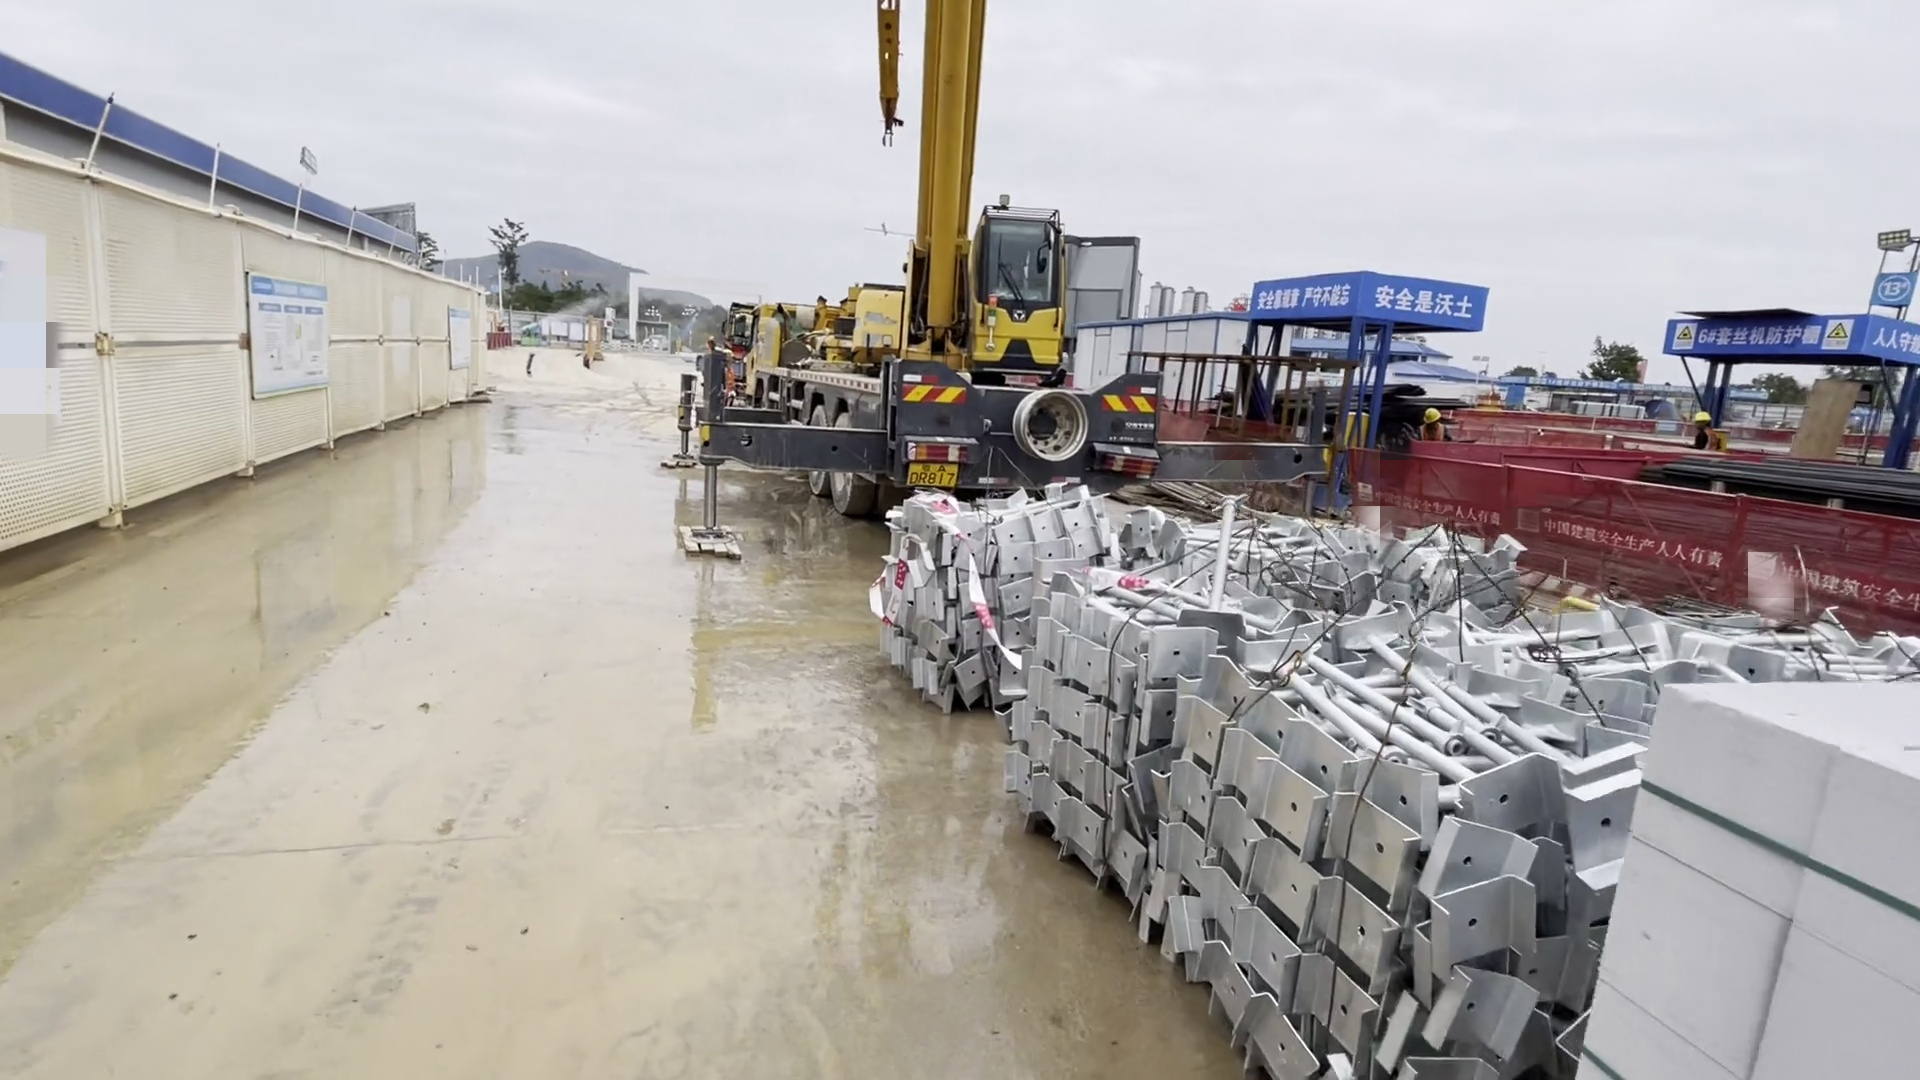brick: (1586, 670, 1915, 1080)
slogan: (1662, 303, 1920, 363), (1254, 270, 1493, 328)
